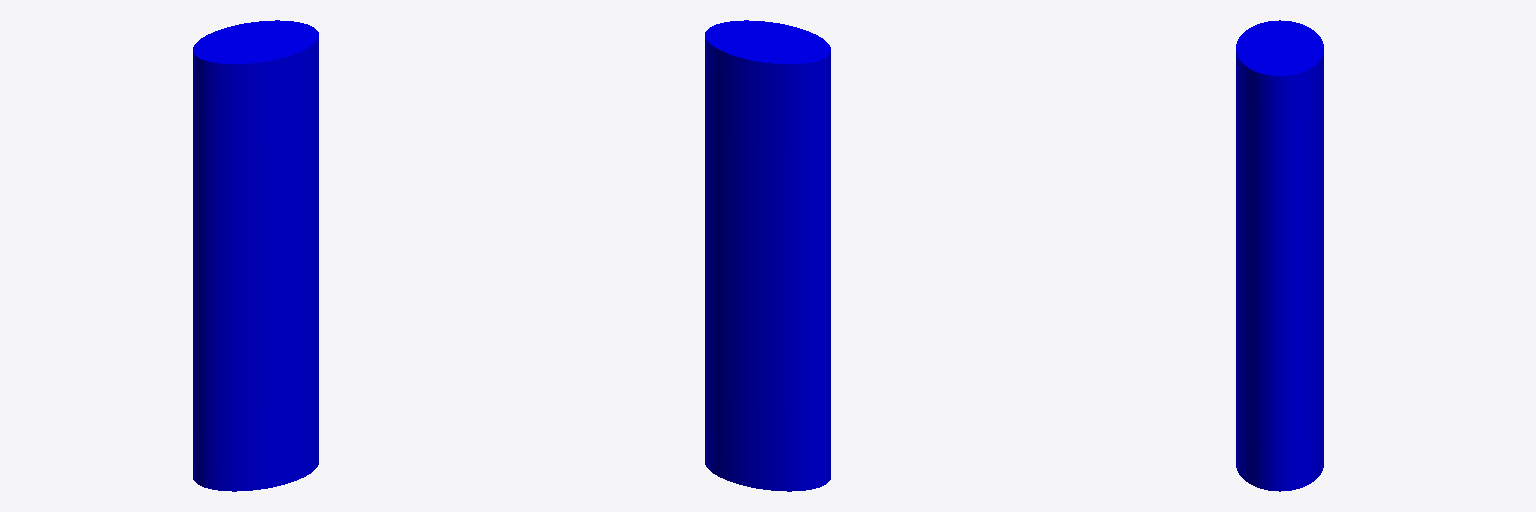
The robot description file, URDF, robot "board2_block16":
<?xml version="1.0"?>
<robot name="board2_block16">
    <link name="board2_block16">
        <visual>
            <origin xyz="0 0 0 " rpy=" 0 0 0"/>
            <geometry>
                <mesh filename="../meshes/SIMO_Board2_Block16.stl" scale="0.001 0.001 0.001"/>
            </geometry>
            <material name="red">
                <color rgba="0.0 0.0 1.0 1.0"/>
            </material>
        </visual>
        <collision>
            <origin xyz="0 0 0" rpy="0 0 0"/>
            <geometry>
                <mesh filename="../meshes/SIMO_Board2_Block16.stl" scale="0.001 0.001 0.001"/>
            </geometry>
        </collision>
    </link>
</robot>

--- Render facts (derived) ---
Views: 3 orthographic renders of the robot side by side, from view 1: azimuth 30°, elevation 25°; view 2: azimuth 150°, elevation 25°; view 3: azimuth 270°, elevation 25°.
Robot: board2_block16 — 1 links, 0 joints (none); root link board2_block16; default pose: every joint at zero.
Visible links, largest first — view 1: board2_block16; view 2: board2_block16; view 3: board2_block16.
Boxes of the visible links, bbox=[...] form: board2_block16: bbox=[193, 20, 318, 491]; board2_block16: bbox=[705, 20, 830, 491]; board2_block16: bbox=[1236, 20, 1323, 491].
Size in the robot's own frame: 0.0432 by 0.0288 by 0.15 metres.
Meshes: 1 distinct files referenced, 1 mesh visuals loaded (1 ASCII STL).
